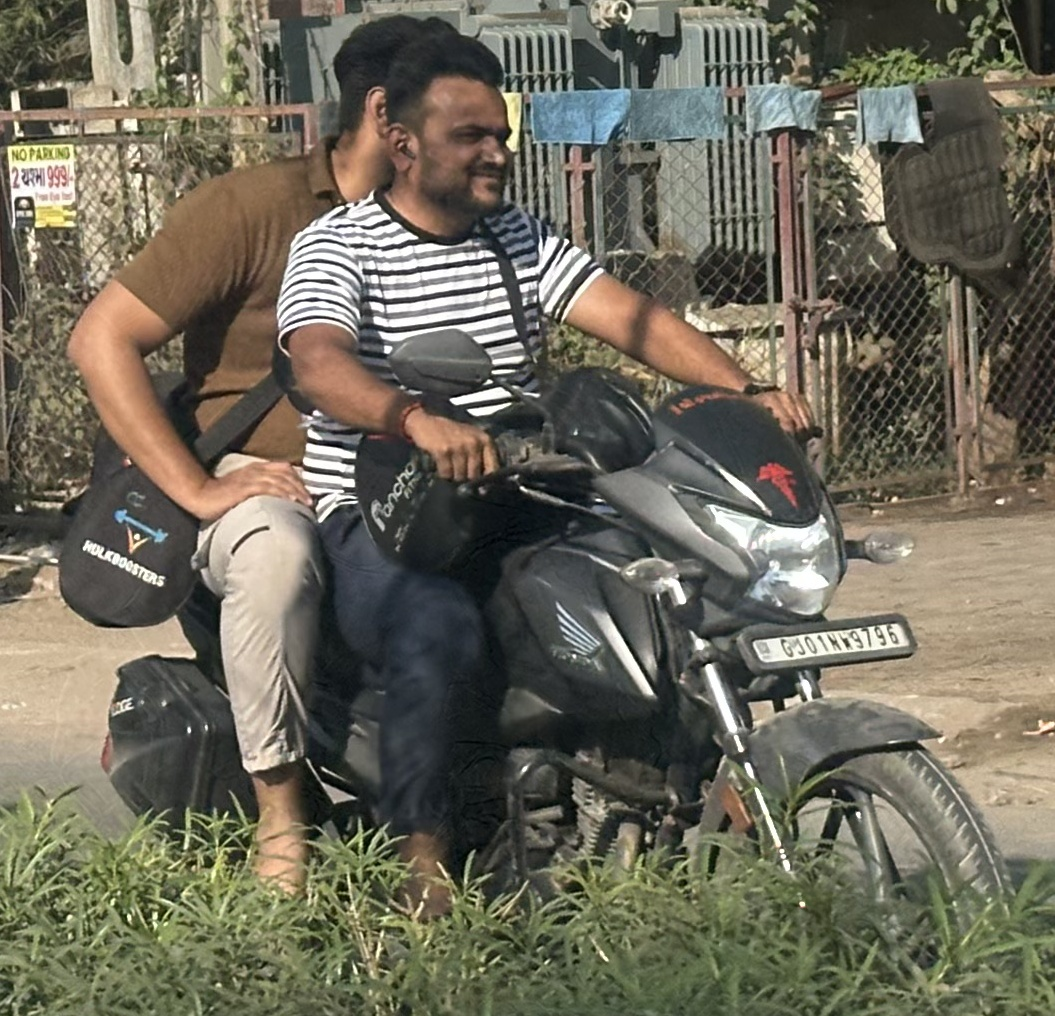BikeWithRider: (43, 3, 1030, 1003)
NoHelmet: (361, 24, 530, 224), (316, 6, 468, 192)
